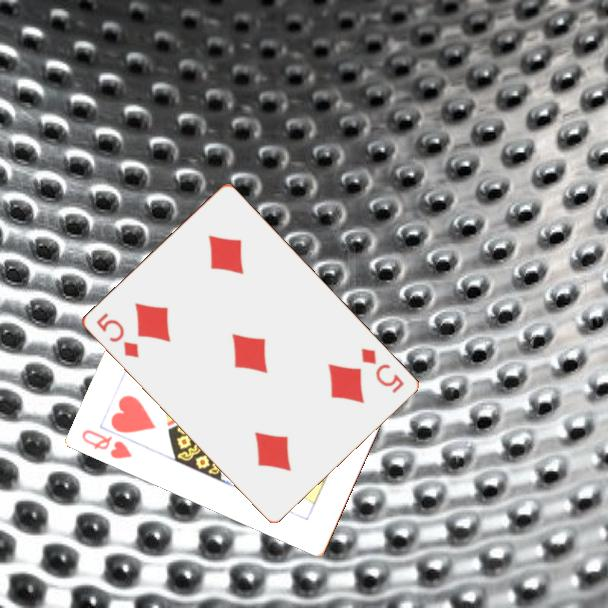d05: (92, 309, 142, 361), (357, 344, 407, 396)
h12: (78, 426, 136, 462)
